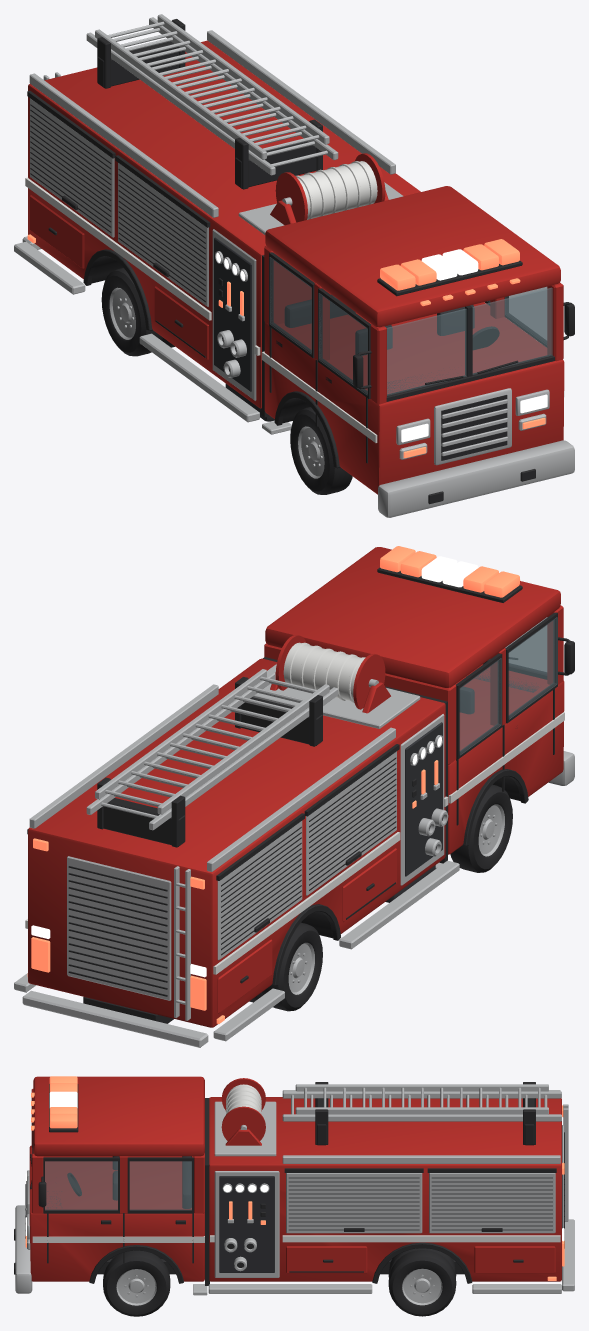
Rendered from FireTruck.fbx.
3 views of the same model, one above another, from view 1: azimuth 30°, elevation 25°; view 2: azimuth 150°, elevation 25°; view 3: azimuth 270°, elevation 25° (orthographic). The views are drawn at different scales.
Visible parts, largest first — view 1: FireTruck_Mesh; view 2: FireTruck_Mesh; view 3: FireTruck_Mesh.
Part boxes in pixels (bbox=[...]): FireTruck_Mesh: bbox=[14, 14, 574, 517]; FireTruck_Mesh: bbox=[14, 546, 574, 1047]; FireTruck_Mesh: bbox=[14, 1076, 574, 1316].
Bounding box in the file's own units: 2.94 × 3.26 × 8.64.
